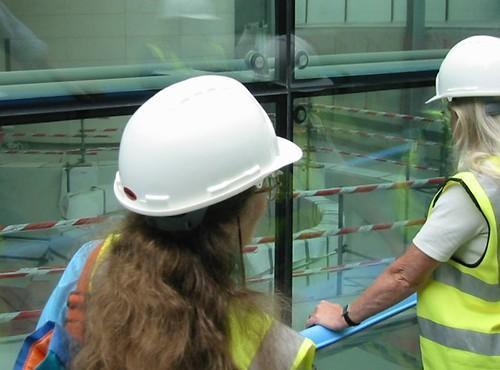vest: (88, 229, 318, 368), (412, 166, 499, 369)
